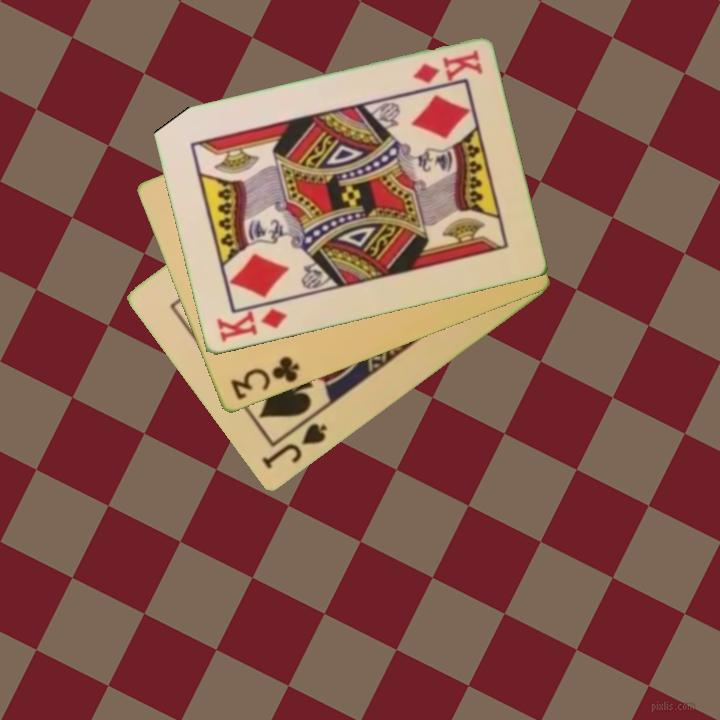3c: (227, 353, 302, 404)
Js: (258, 420, 331, 473)
Kd: (408, 47, 485, 88), (212, 305, 290, 345)
